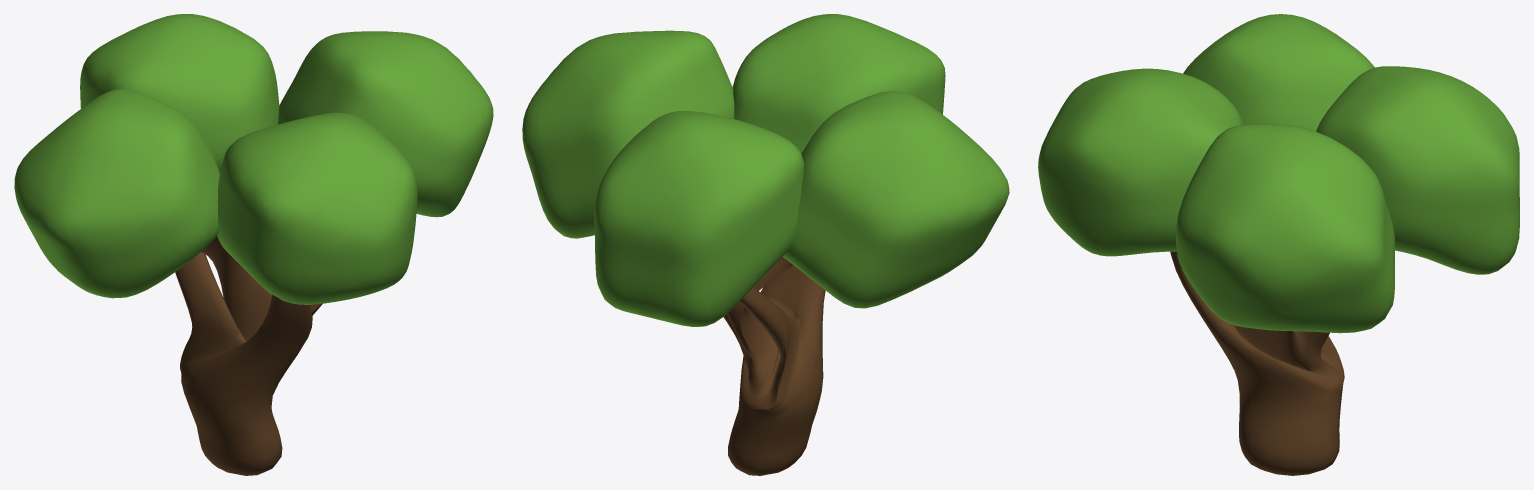
The model's file is Tree 4.fbx.
3 views of the same model, side by side, from view 1: azimuth 30°, elevation 25°; view 2: azimuth 150°, elevation 25°; view 3: azimuth 270°, elevation 25° (orthographic). The views are drawn at different scales.
Visible parts, largest first — view 1: Cube; view 2: Cube; view 3: Cube.
Part boxes in pixels (<box>): Cube: <box>14,14,493,475</box>; Cube: <box>522,14,1009,475</box>; Cube: <box>1038,14,1519,475</box>.
Size of the model in its own units: 755 by 643 by 711.
